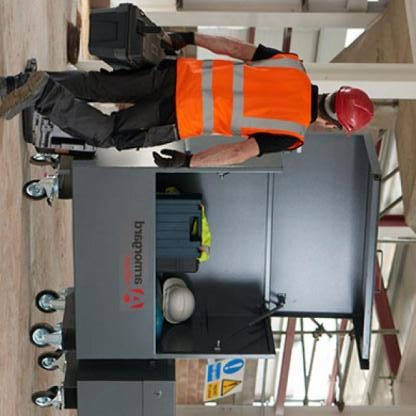red: (334, 82, 376, 141)
vest: (170, 44, 319, 163)
